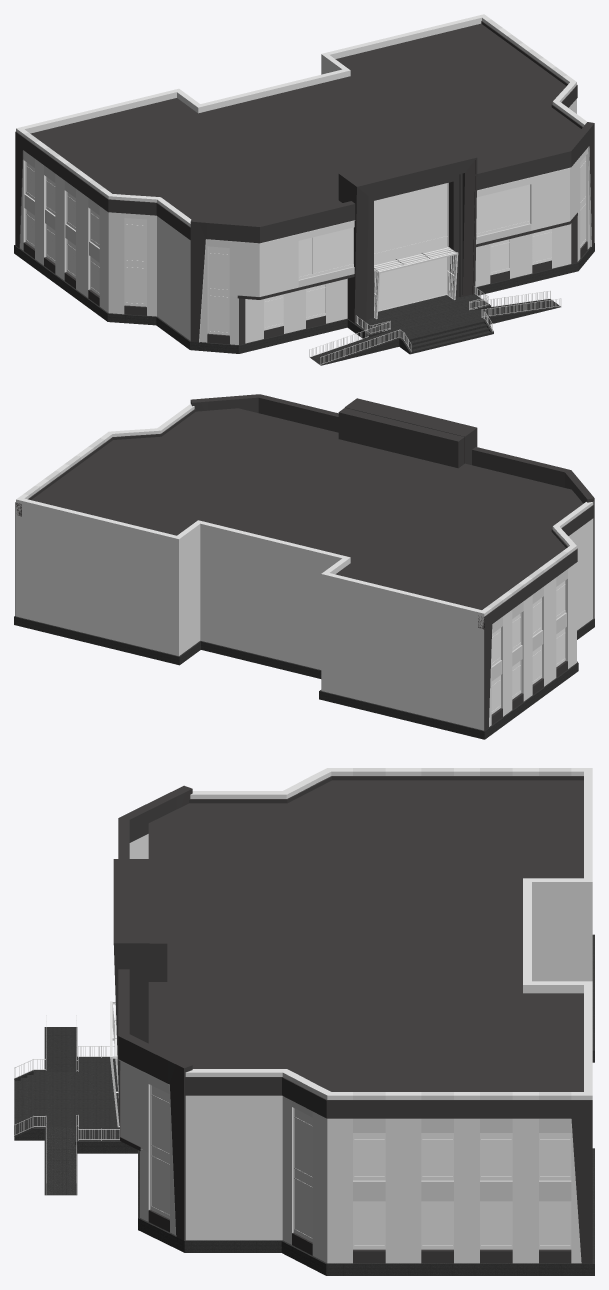
File: MiniApartement-transformed.glb
3 renders of one model, top to bottom at view 1: azimuth 30°, elevation 25°; view 2: azimuth 150°, elevation 25°; view 3: azimuth 270°, elevation 25°, orthographic. The views are drawn at different scales.
Visible parts, largest first — view 1: OfficeBuilding2.002, OfficeBuilding2.001, OfficeBuilding2.009, OfficeBuilding2.012, OfficeBuilding2.003; view 2: OfficeBuilding2.002, OfficeBuilding2.001, OfficeBuilding2.012, OfficeBuilding2.009, OfficeBuilding2.003; view 3: OfficeBuilding2.002, OfficeBuilding2.001, OfficeBuilding2.009, OfficeBuilding2.012, OfficeBuilding2.003.
Part boxes in pixels (x1,y1,x2,y2): OfficeBuilding2.002: (15,21,594,345); OfficeBuilding2.001: (16,14,590,344); OfficeBuilding2.009: (25,146,591,365); OfficeBuilding2.012: (14,243,594,365); OfficeBuilding2.003: (23,19,567,287); OfficeBuilding2.002: (15,394,594,730); OfficeBuilding2.001: (16,404,593,730); OfficeBuilding2.012: (14,616,594,739); OfficeBuilding2.009: (491,580,565,714); OfficeBuilding2.003: (24,438,567,681); OfficeBuilding2.002: (113,776,592,1263); OfficeBuilding2.001: (120,768,592,1263); OfficeBuilding2.009: (14,1001,571,1249); OfficeBuilding2.012: (14,934,594,1275); OfficeBuilding2.003: (353,768,571,1201).
Bounding box in the file's own units: 0.537 × 0.1599 × 0.4003.
Materials: 4 (1 with a texture image).
